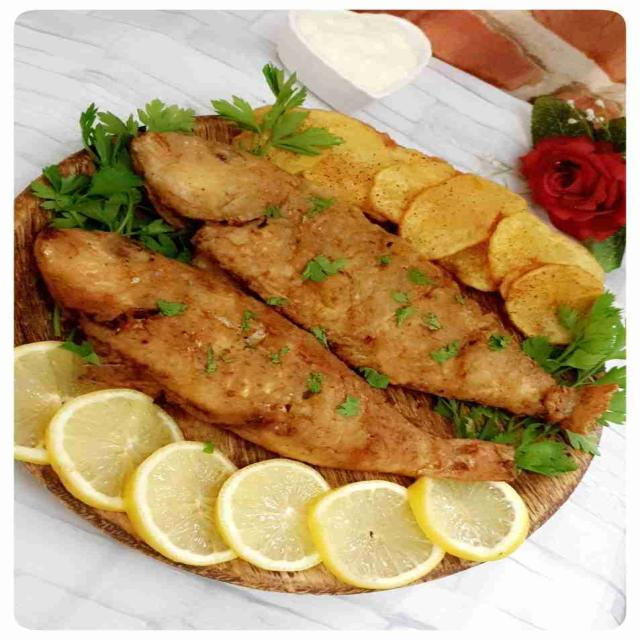Peixe: (25, 107, 616, 482)
